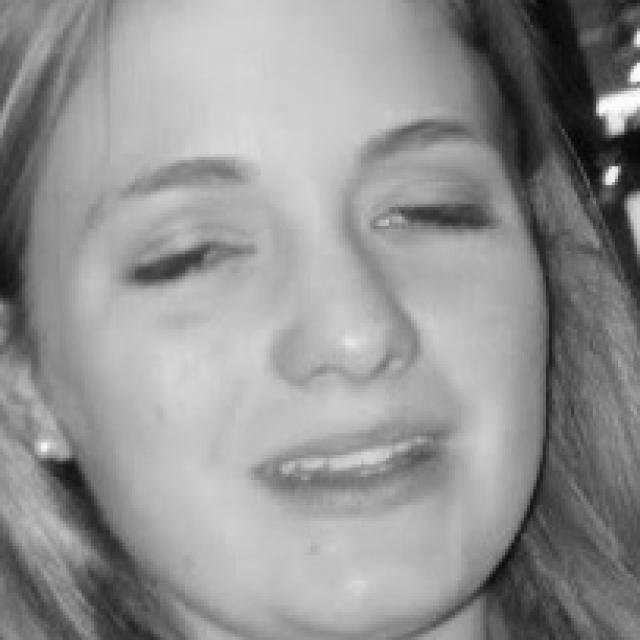real: (14, 45, 570, 635), (114, 165, 515, 322)
